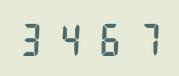four: (53, 20, 87, 56)
seven: (123, 20, 157, 56)
six: (88, 20, 122, 56)
three: (18, 20, 52, 56)
